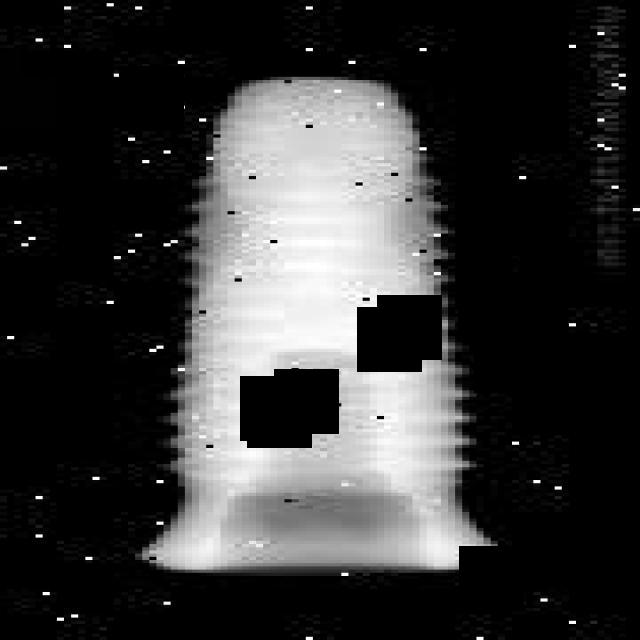Titan Implant Implant: (135, 74, 505, 573)
